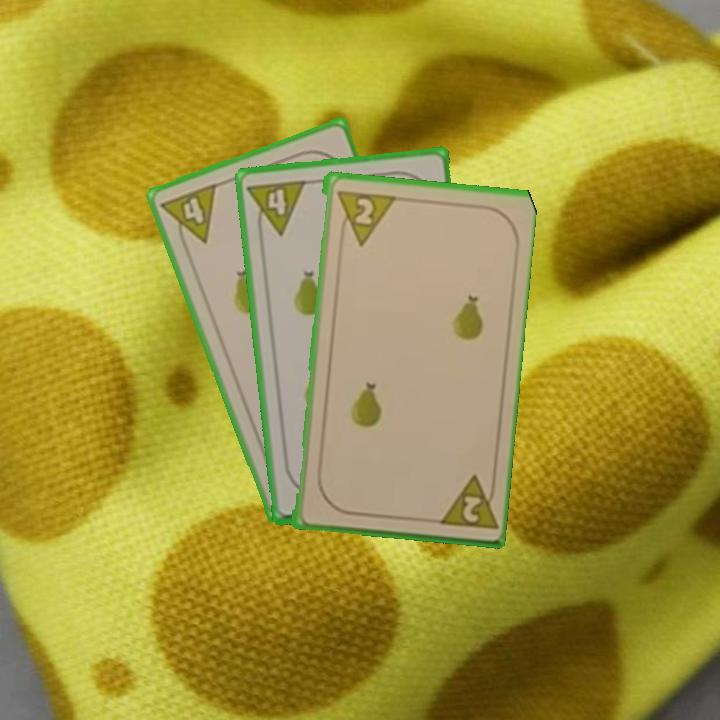2p: (431, 470, 498, 532), (332, 186, 395, 248)
4p: (157, 179, 220, 253), (244, 176, 309, 240)
